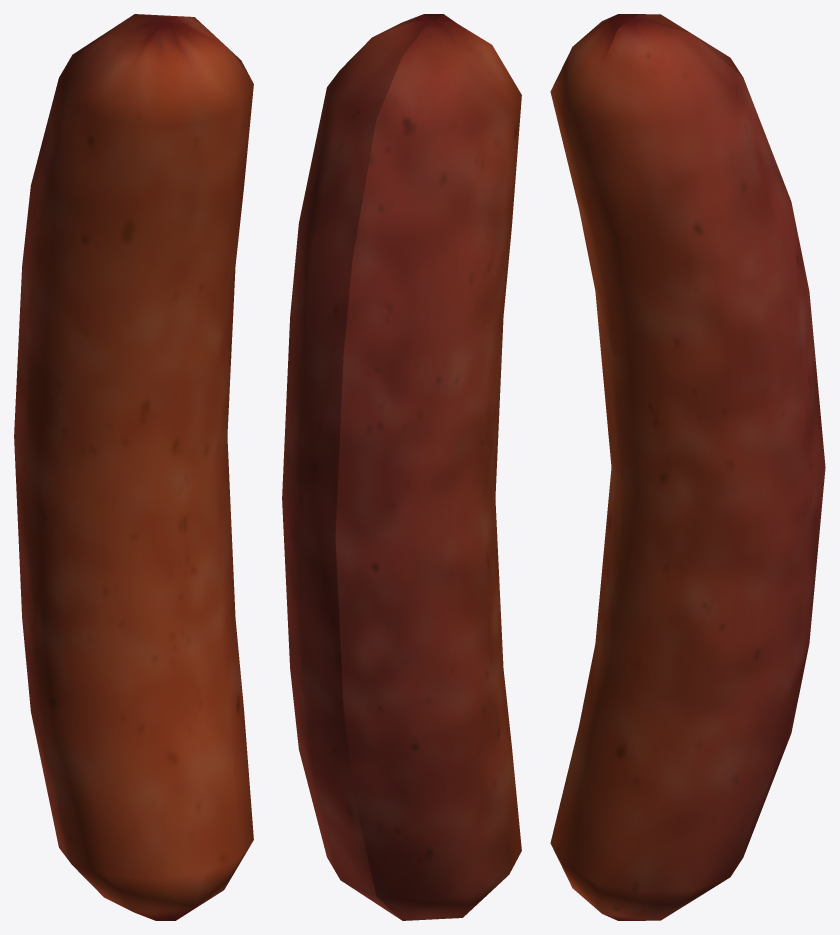
Rendered from MSH_Sausage_Weapon.fbx.
3 renders of one model, left to right at view 1: azimuth 30°, elevation 25°; view 2: azimuth 150°, elevation 25°; view 3: azimuth 270°, elevation 25°, orthographic.
Visible parts, largest first — view 1: Sausage_Weapon.001; view 2: Sausage_Weapon.001; view 3: Sausage_Weapon.001.
Part boxes in pixels (box(x1,y1,x2,y2)): Sausage_Weapon.001: box(14, 14, 253, 920); Sausage_Weapon.001: box(282, 14, 521, 920); Sausage_Weapon.001: box(550, 14, 825, 920).
Bounding box in the file's own units: 0.6751 × 3.1 × 0.8665.
